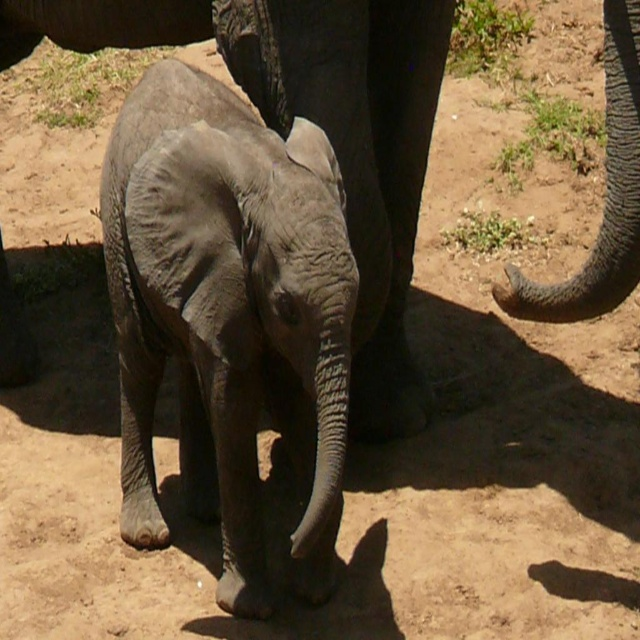Elephant: (103, 67, 376, 619)
